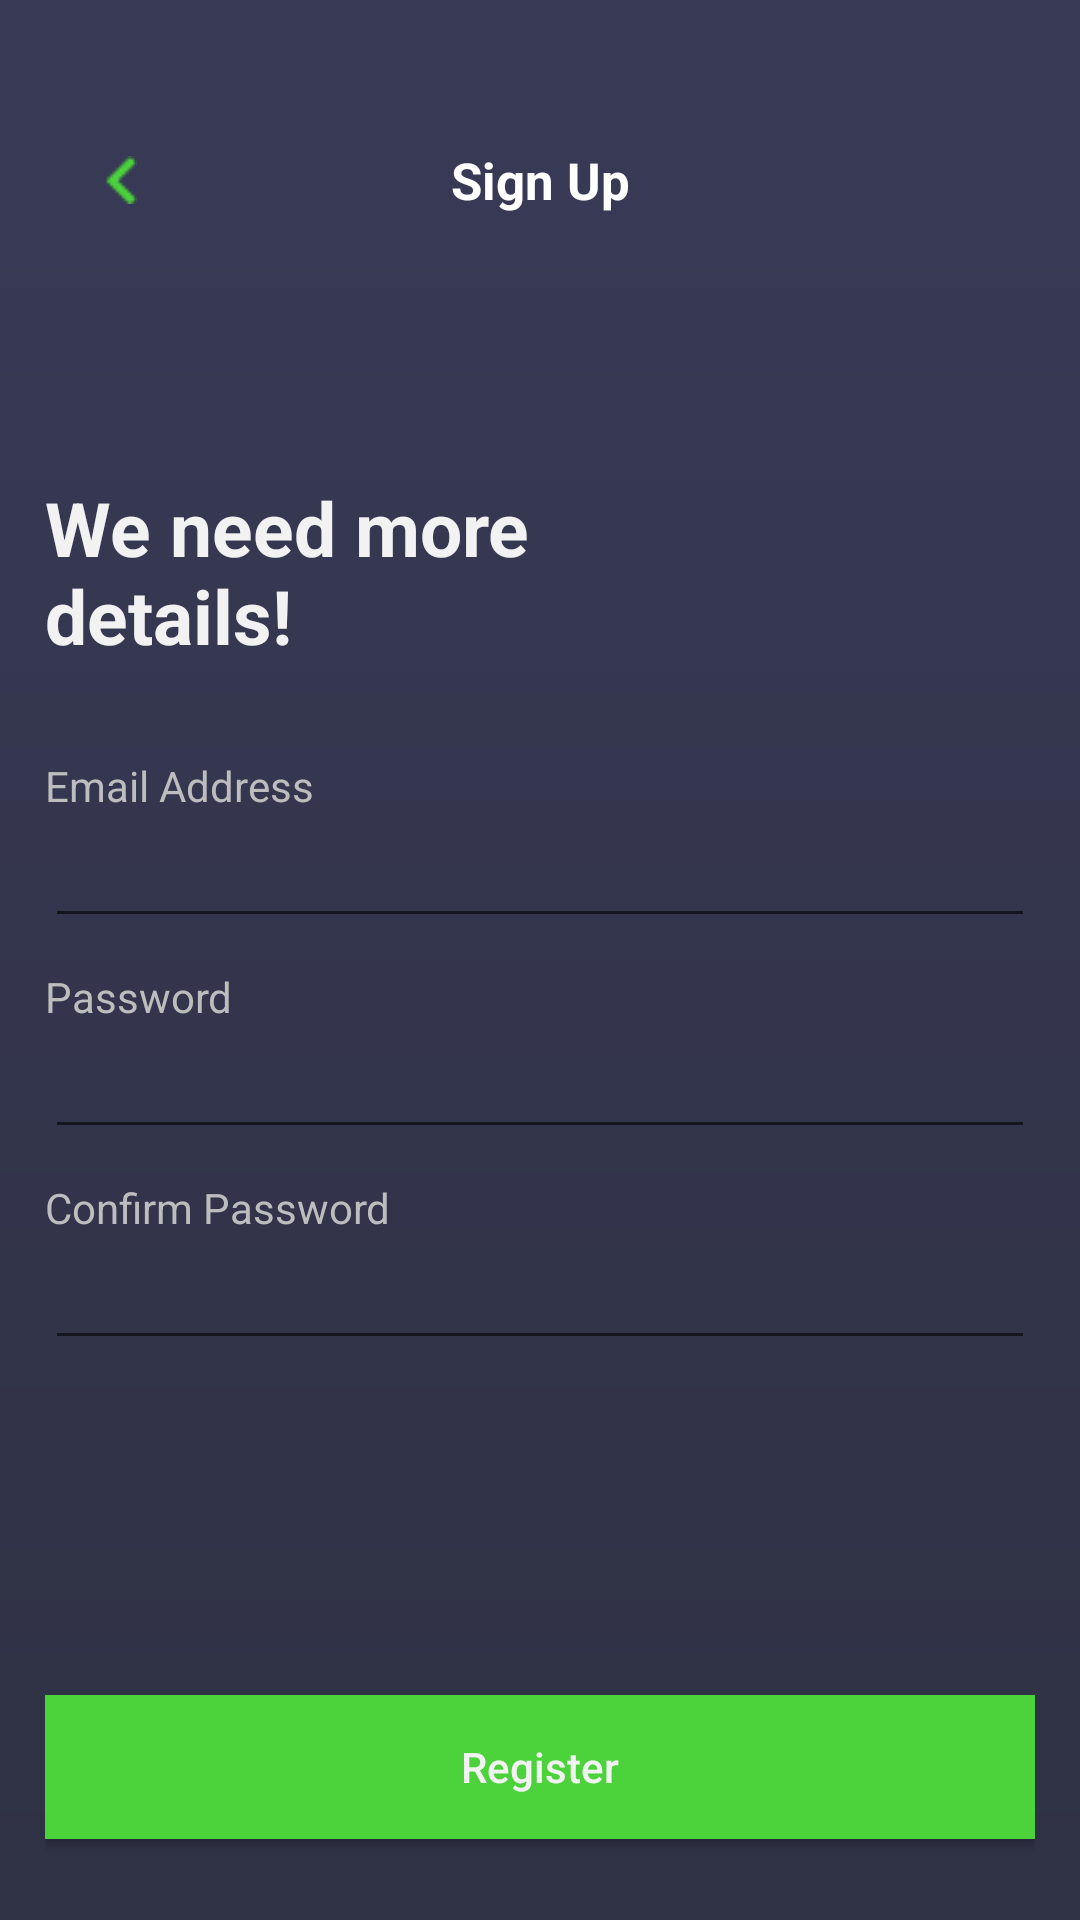

Named icons in this screenshot (1080px×1920px) and their bounding boxes, (x1=x1, y1=y1, x2=x2, y2=y2):
chevronleft: (x1=106, y1=156, x2=137, y2=204)
